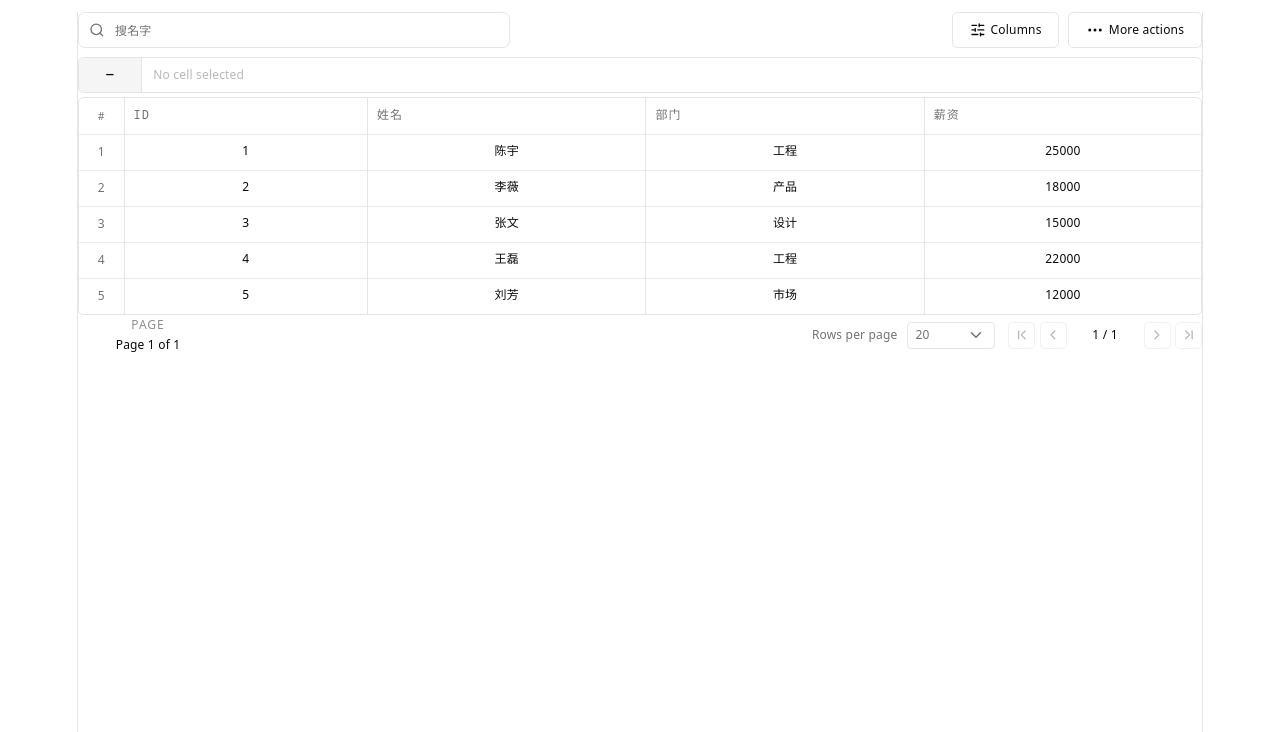
Scenario: DataGrid — spreadsheet mode › clears the active cell when filtering hides the selected row
The width and height of the screenshot is (1280, 732).
Click the button "陈宇" at point(507, 151), box [494,142,519,159]
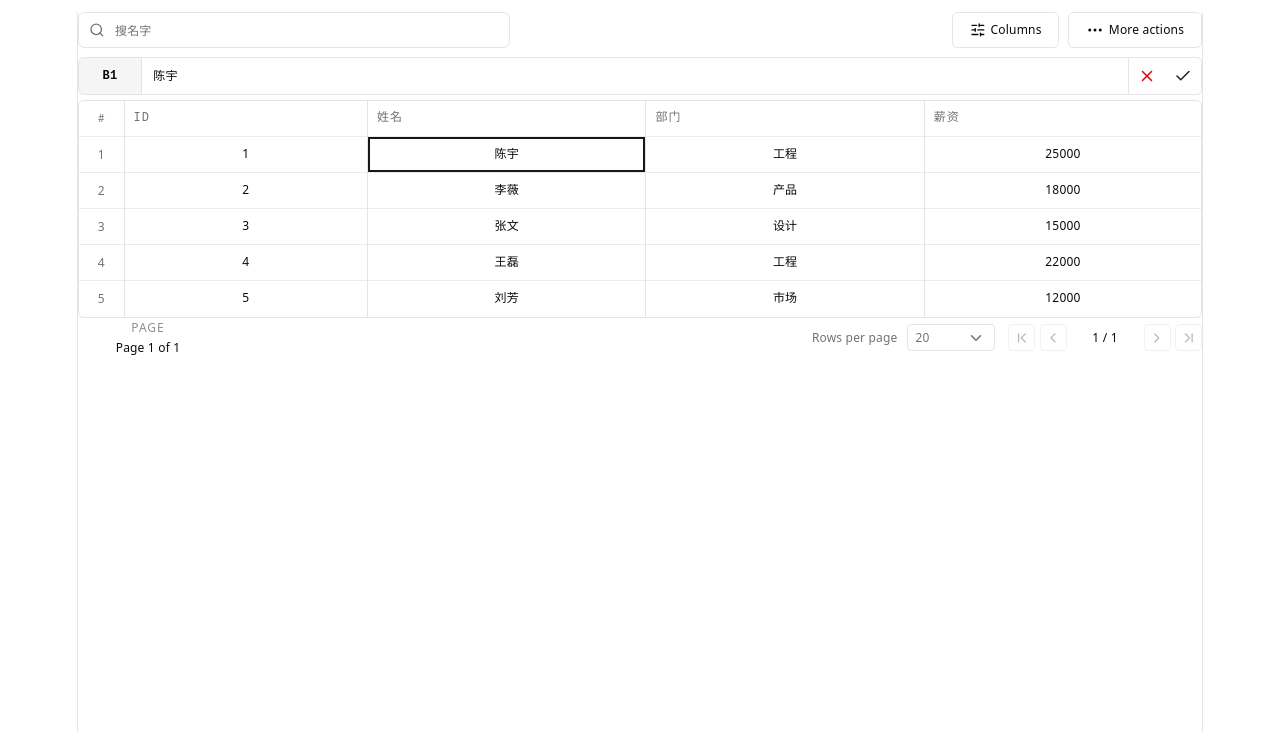
Now the field named "Formula bar" holds "陈宇", box [142,59,1128,93]
Type "李薇" into the field with placeholder "搜名字" at point(294, 30), box [78,12,510,48]
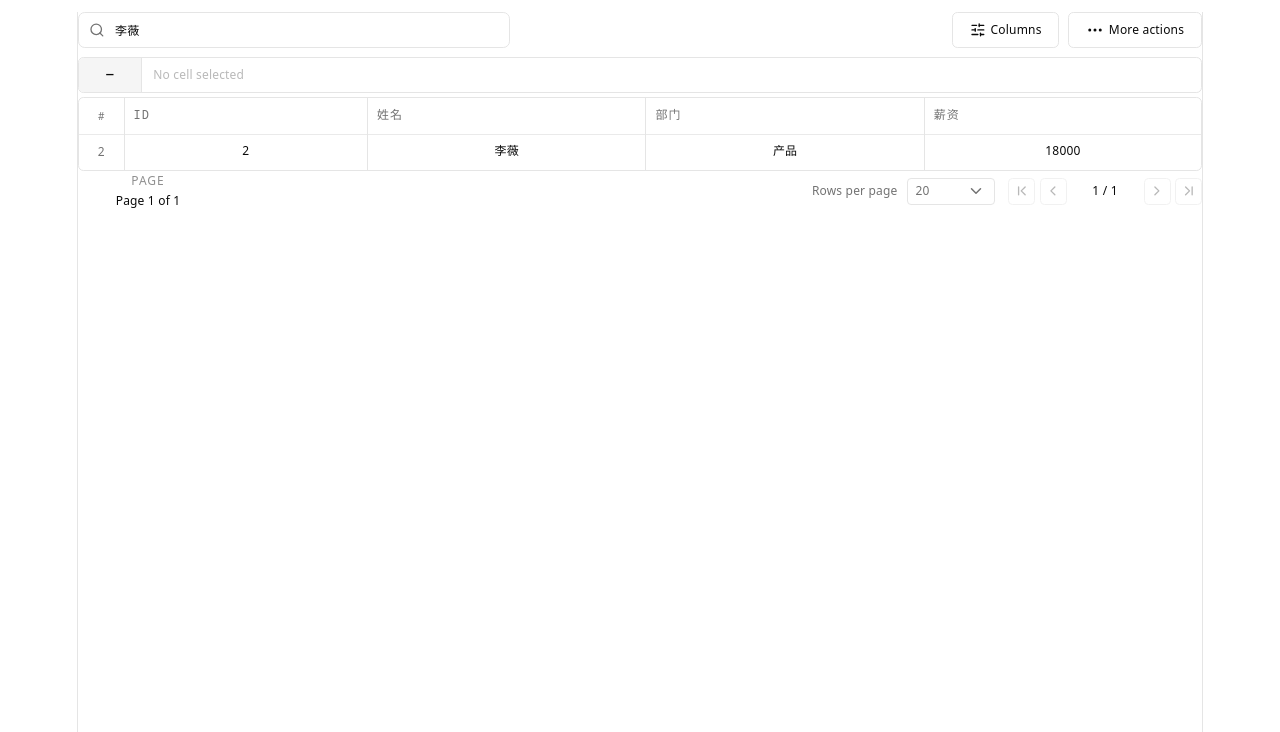
Now the button "陈宇" is gone
Now the field named "Formula bar" is empty, box [142,58,1201,92]
